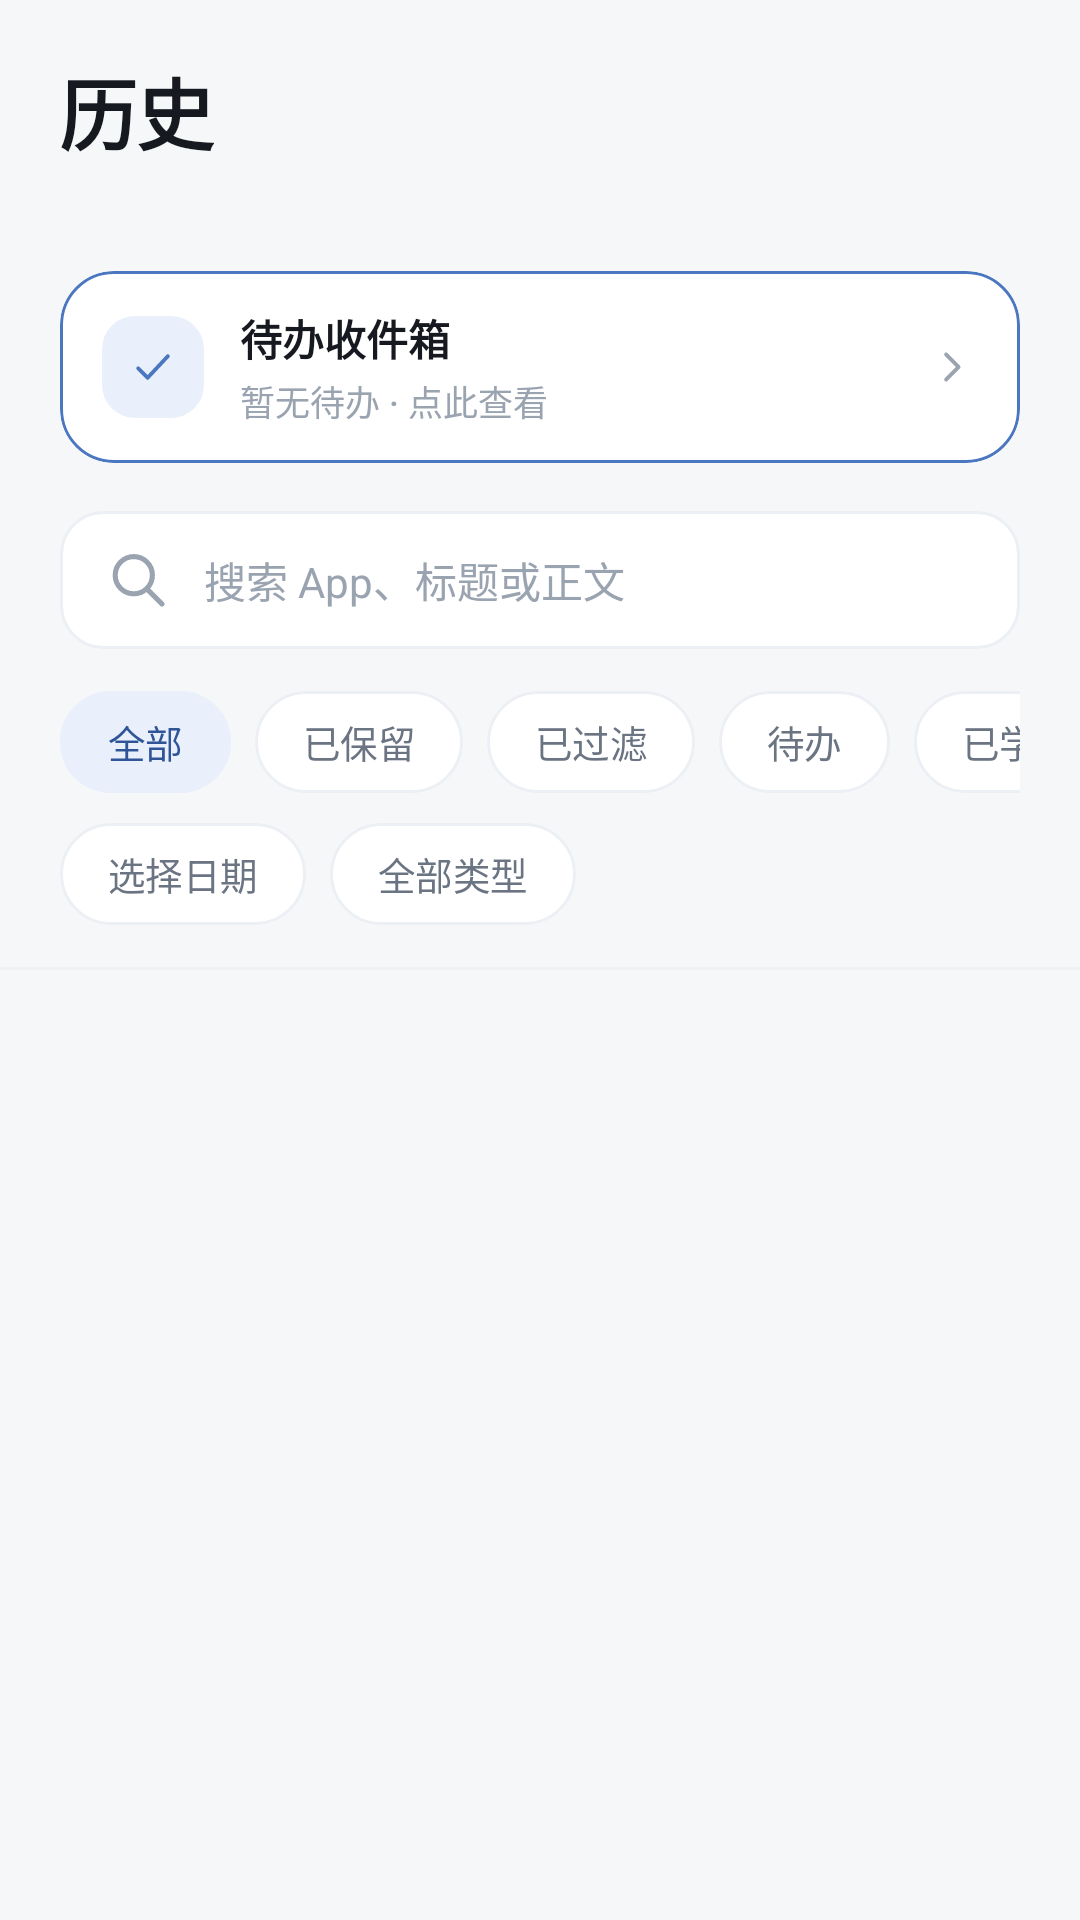

Named icons in this screenshot (1080x1920) and their bounding boxes, (x1, y1, x2, y2):
check: (102, 316, 204, 418)
chevron right: (944, 352, 961, 382)
